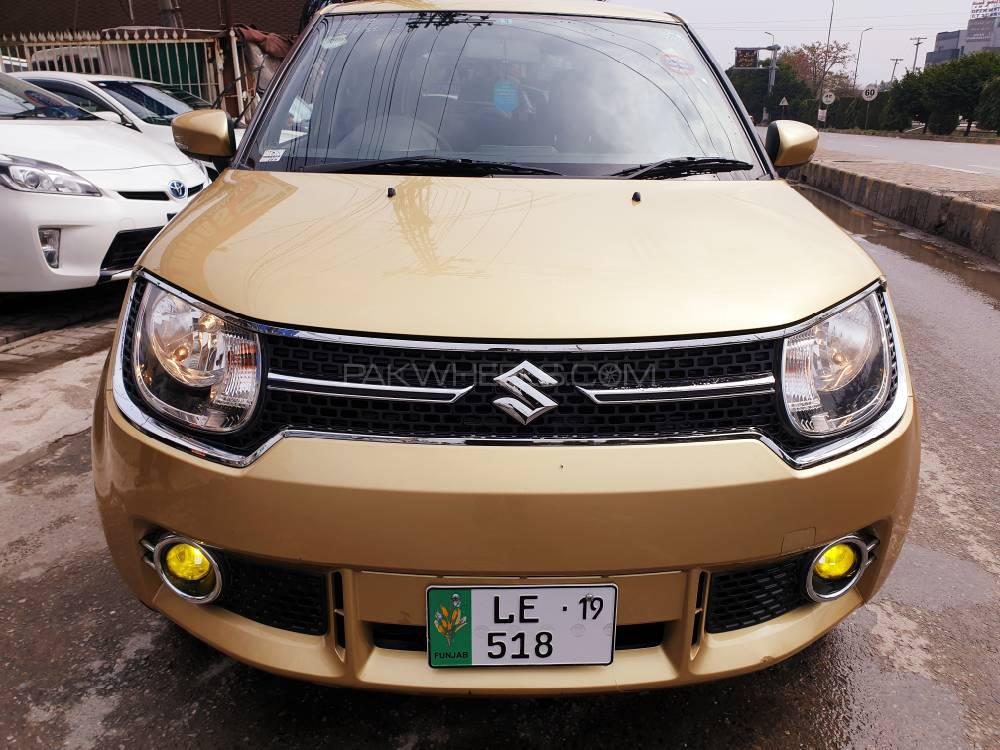license plate: (427, 586, 612, 666)
